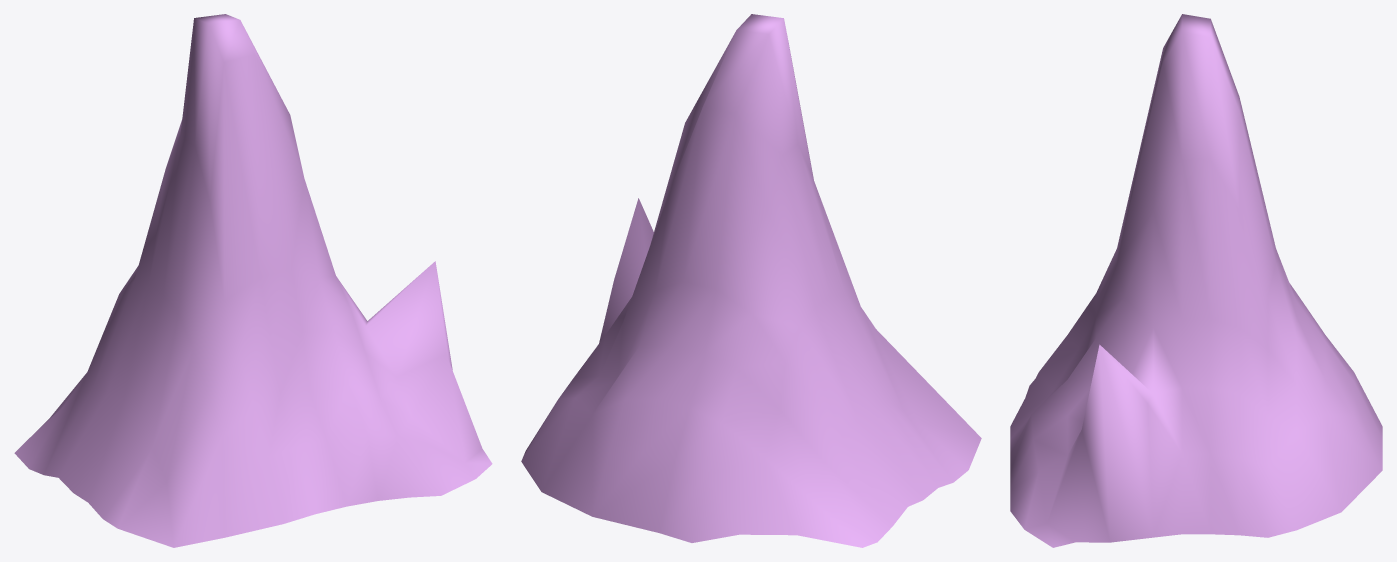
The picture shows the model from 3 angles, left to right: view 1: azimuth 30°, elevation 25°; view 2: azimuth 150°, elevation 25°; view 3: azimuth 270°, elevation 25°; orthographic projection. The views are drawn at different scales.
Visible parts, largest first — view 1: Object52; view 2: Object52; view 3: Object52.
Boxes of the visible parts, x1,y1,x2,y2 form: Object52: (14,14,492,547); Object52: (521,14,981,547); Object52: (1010,14,1382,547).
Bounding box in the file's own units: 98.31 × 118 × 92.25.
